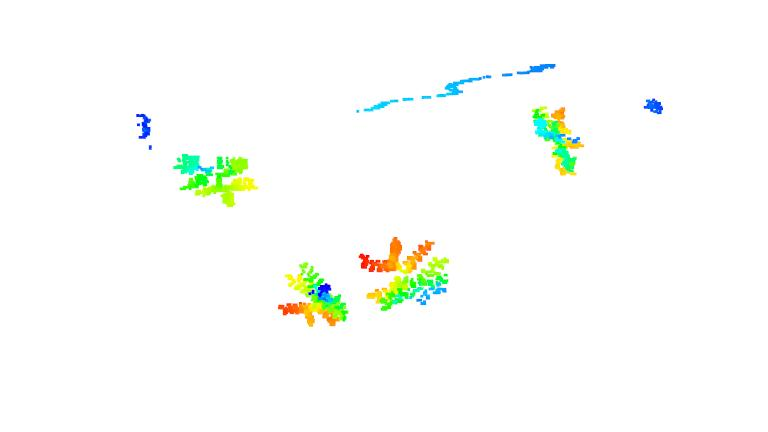chickpea: (358, 237, 453, 312), (277, 262, 348, 330), (174, 153, 259, 209), (532, 105, 586, 177)
